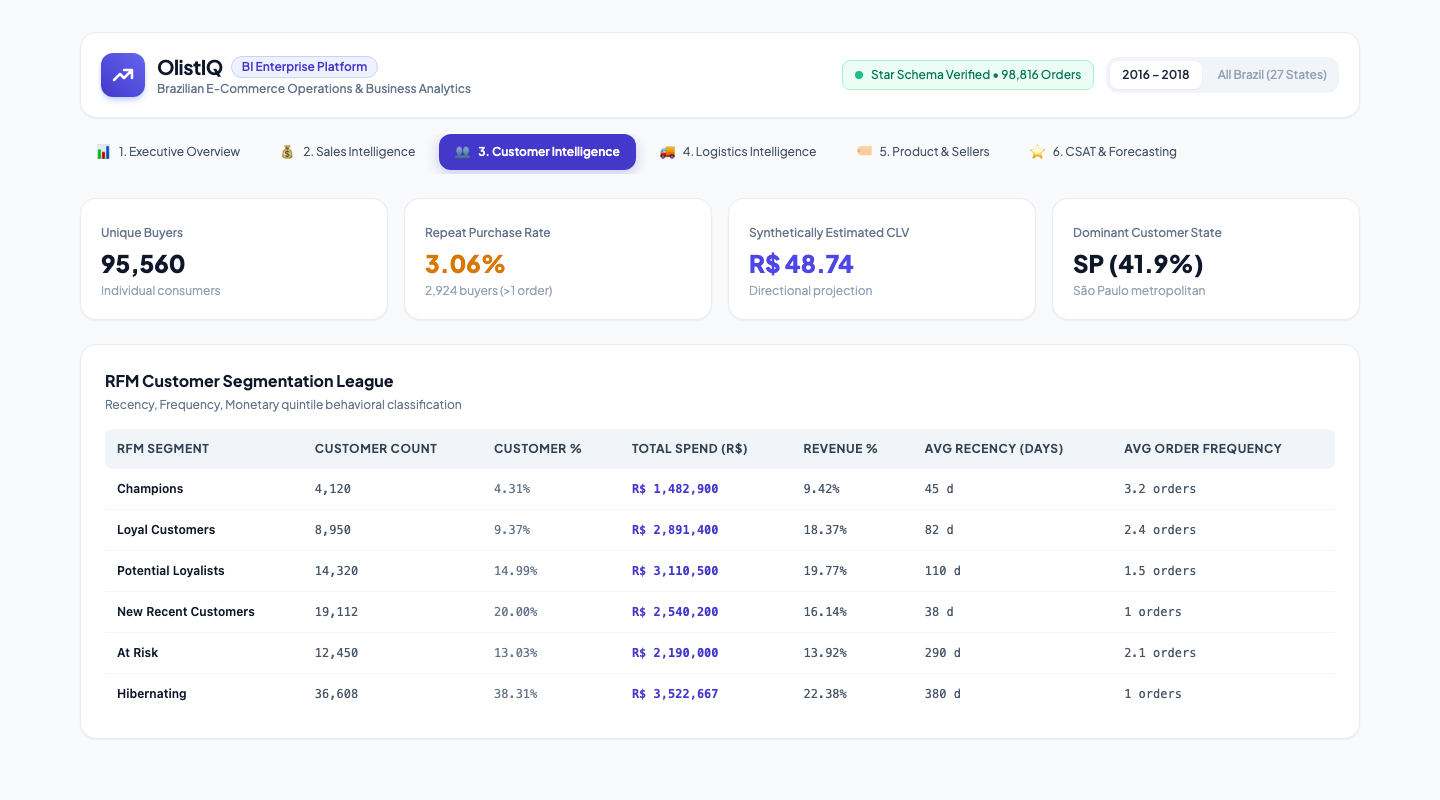

The dashboard page shown, as its layout file describes it:
{"tool":"tableau","page":{"name":"3_Customer_Intelligence","canvas":[1400,900],"ordinal":2},"visuals":[{"type":"title","box":[0,0,1400,72]},{"type":"widget","title":"Customer_RFM_Distribution","box":[0,90,1400,792]}]}

Visuals, with their boxes on the page's 1400x900 design canvas (x1, y1, x2, y2). These are canvas units, not pixel positions in the 1440x800 screenshot, which may show the page scaled, cropped or inside an application window:
title: x1=0 y1=0 x2=1400 y2=72
"Customer_RFM_Distribution" widget: x1=0 y1=90 x2=1400 y2=882
